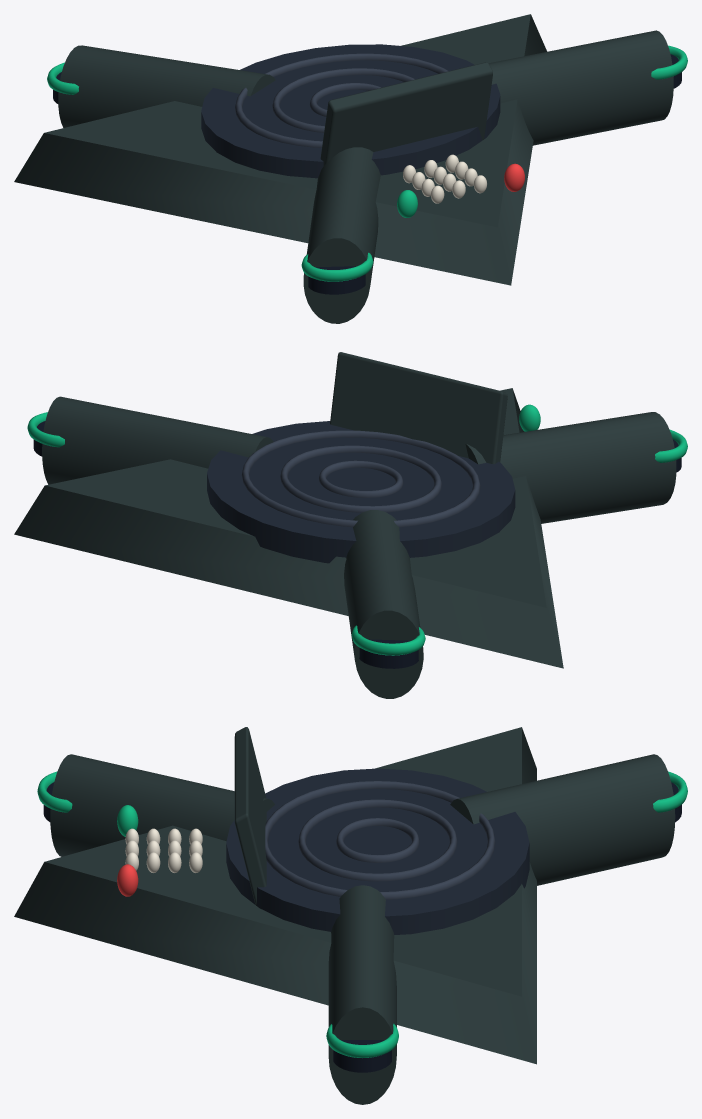
File: wp-telephone-de-conference.glb
The picture shows the model from 3 angles, top to bottom: view 1: azimuth 30°, elevation 25°; view 2: azimuth 150°, elevation 25°; view 3: azimuth 270°, elevation 25°; orthographic projection. The views are drawn at different scales.
Visible parts, largest first — view 1: wp-telephone-de-conference; view 2: wp-telephone-de-conference; view 3: wp-telephone-de-conference.
Part boxes in pixels (x1,y1,x2,y2): wp-telephone-de-conference: (14,14,687,323); wp-telephone-de-conference: (14,352,687,698); wp-telephone-de-conference: (14,727,687,1104).
Bounding box in the file's own units: 0.3 × 0.0717 × 0.26.
